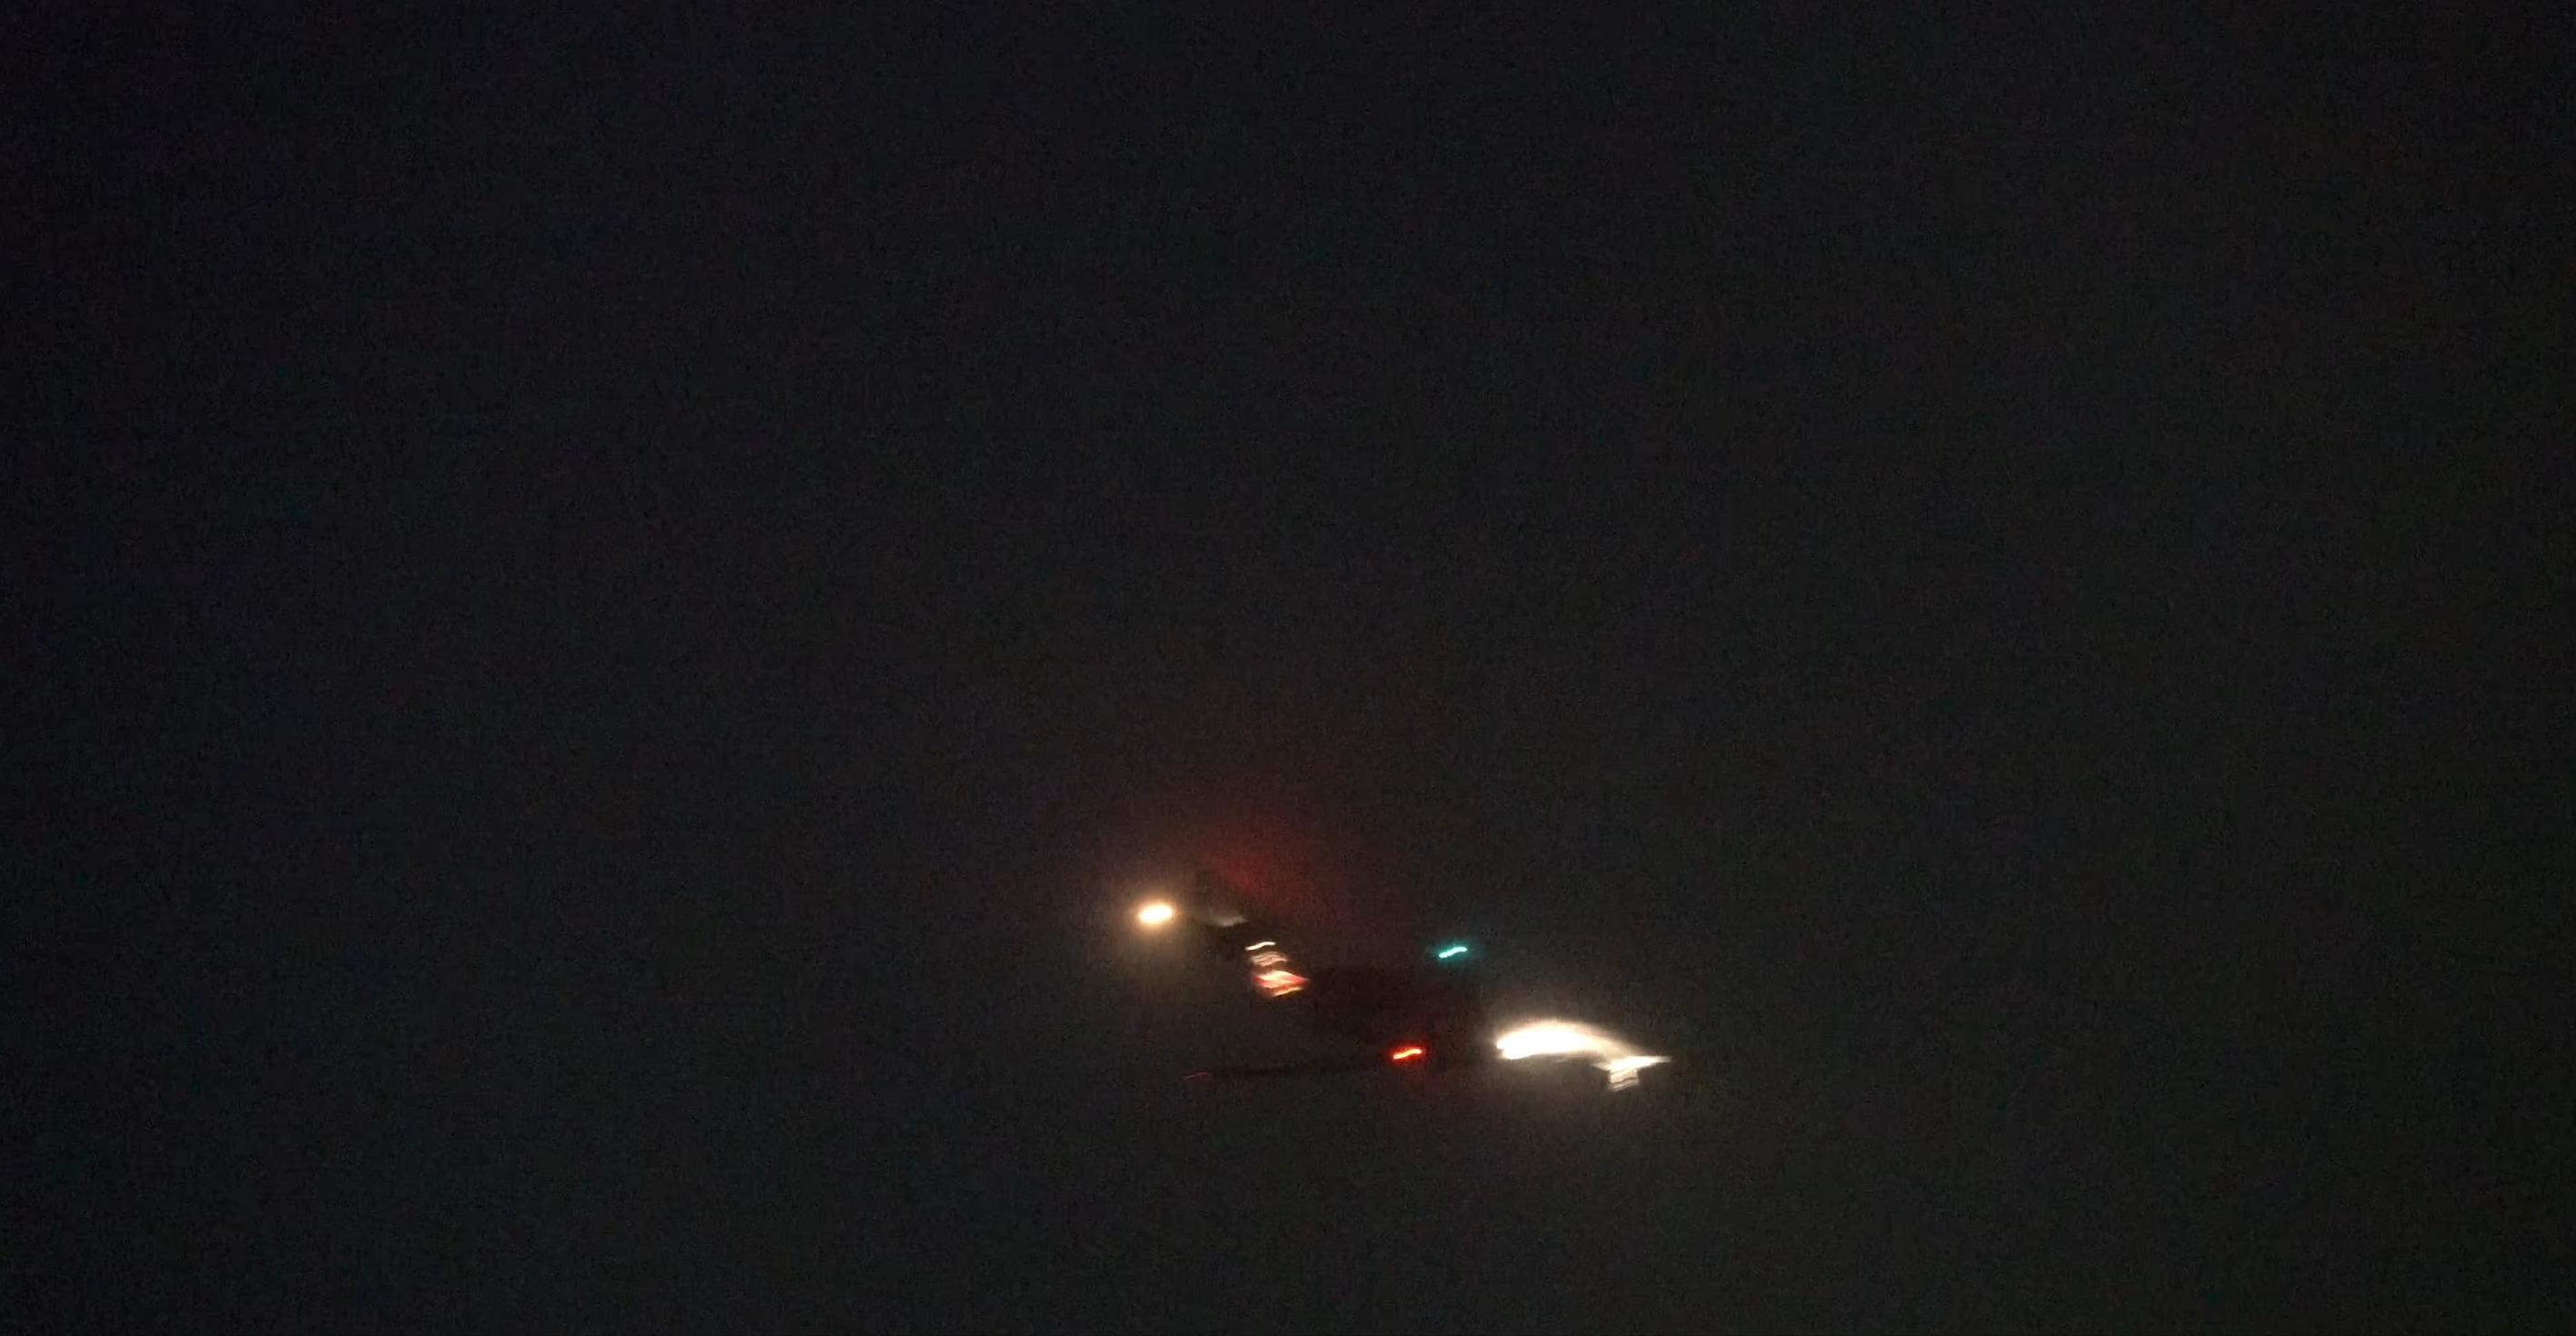Plane: (1130, 852, 1757, 1179)
